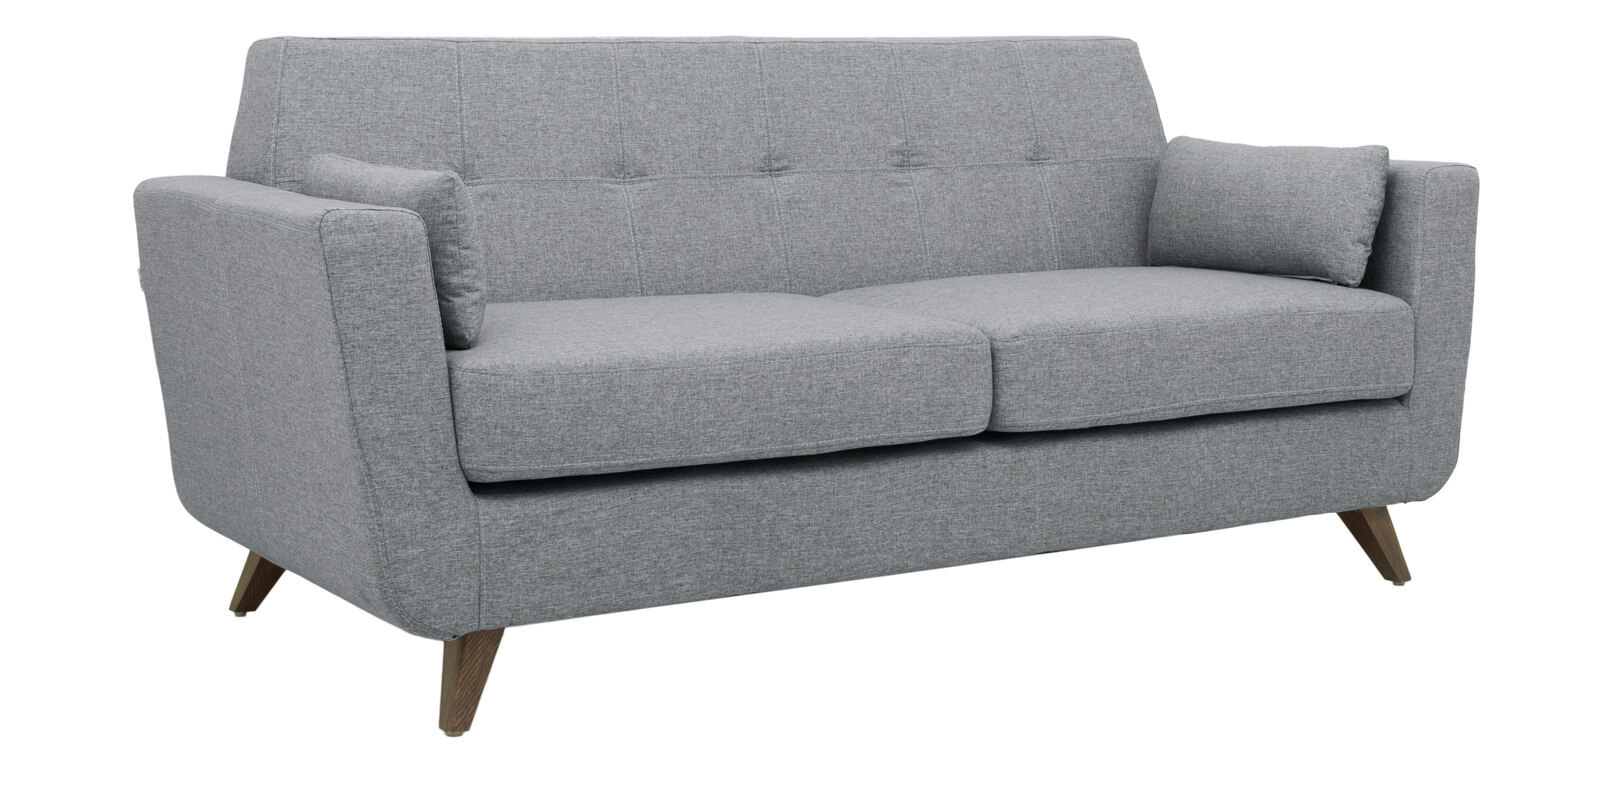Castello Three Seater Sofa in Gravel Grey Colour by CasaCraft: (111, 18, 1485, 676)
